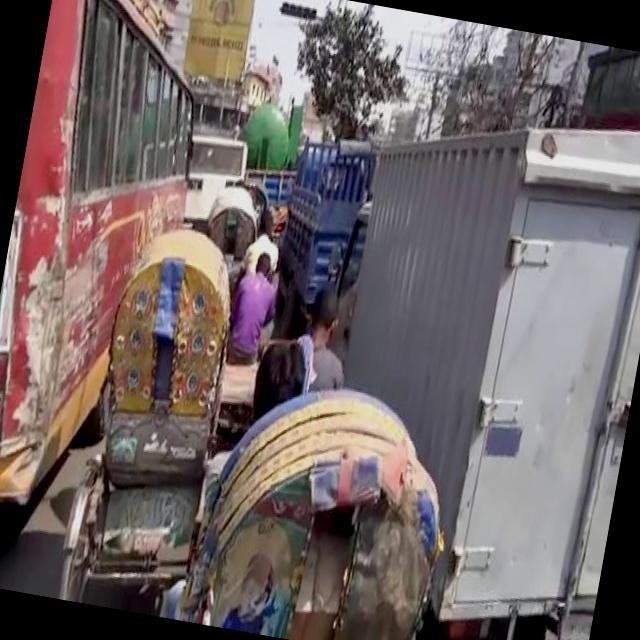bus: (0, 0, 227, 542), (178, 123, 254, 230)
motorcycle: (50, 210, 253, 619), (179, 360, 466, 640), (202, 180, 262, 257)
truck: (269, 65, 640, 640), (264, 123, 379, 351)
